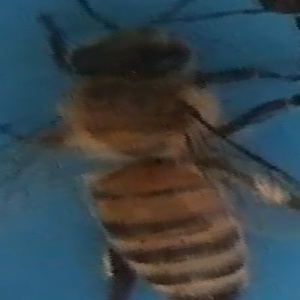bee: (30, 15, 285, 299)
